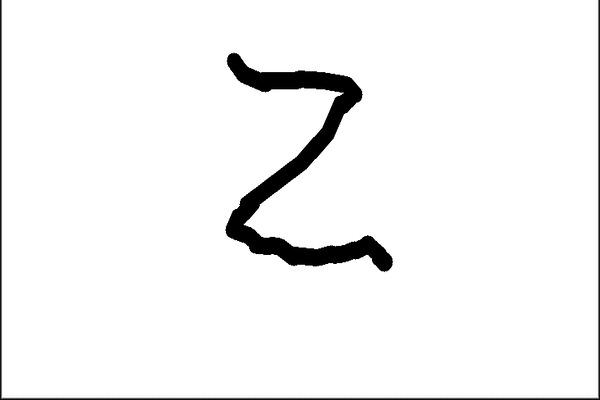Z: (205, 36, 410, 282)
